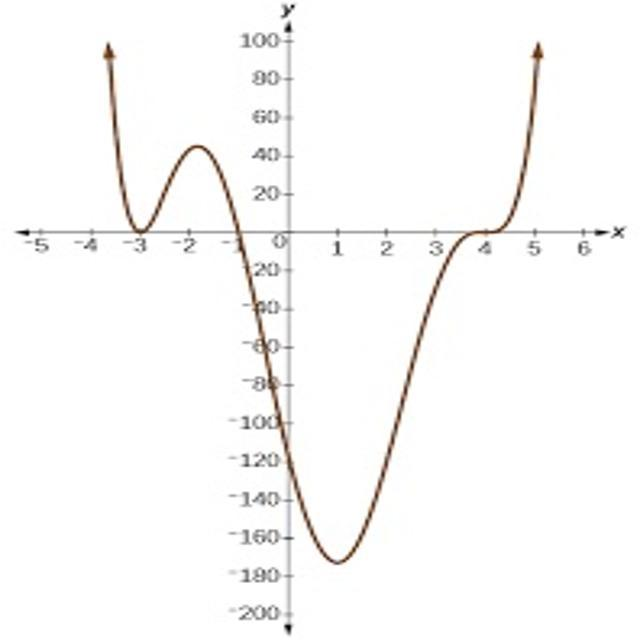axis: (276, 12, 298, 640), (10, 222, 629, 238)
line: (103, 40, 544, 567)
